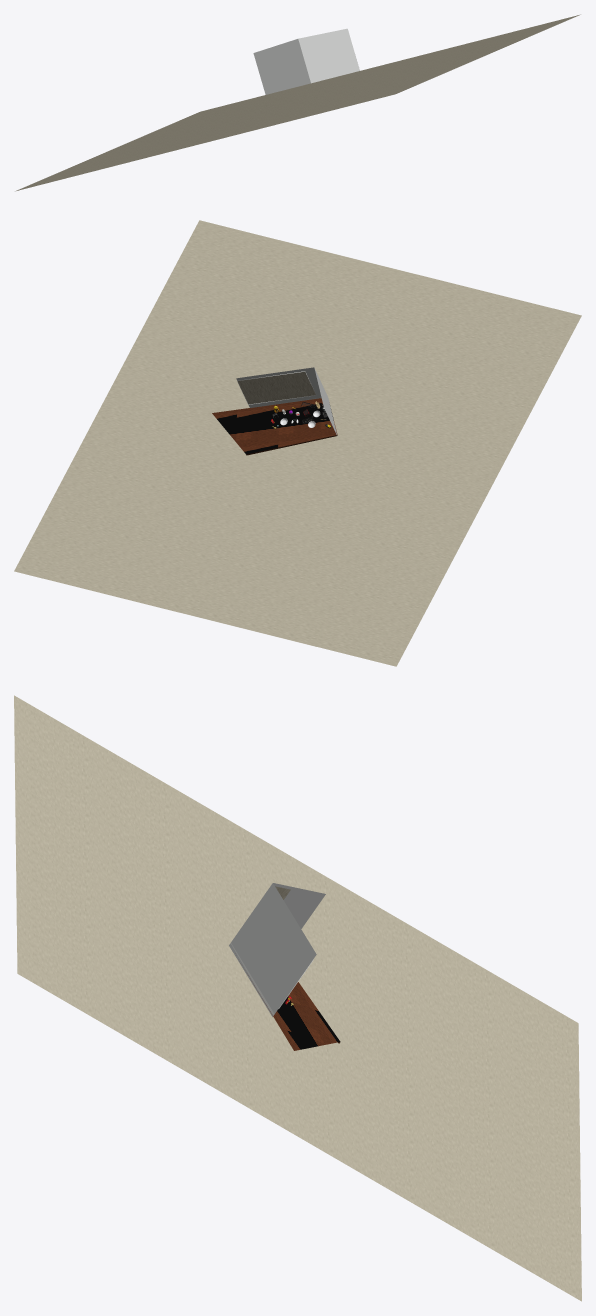
Rendered from viga.glb.
3 views of the same model, one above another, from view 1: azimuth 30°, elevation 25°; view 2: azimuth 150°, elevation 25°; view 3: azimuth 270°, elevation 25° (orthographic). The views are drawn at different scales.
Visible parts, largest first — view 1: pale surface below table, rear plaster, right plaster; view 2: pale surface below table, crisp wood tabletop, back inset grain, rear plaster; view 3: pale surface below table, rear plaster, crisp wood tabletop, right plaster.
Part boxes in pixels (x1=…): pale surface below table: x1=15, y1=14, x2=580, y2=191; rear plaster: x1=298, y1=28, x2=359, y2=83; right plaster: x1=253, y1=39, x2=310, y2=94; pale surface below table: x1=14, y1=220, x2=581, y2=666; crisp wood tabletop: x1=212, y1=398, x2=337, y2=454; back inset grain: x1=237, y1=371, x2=315, y2=404; rear plaster: x1=236, y1=367, x2=321, y2=407; pale surface below table: x1=14, y1=695, x2=581, y2=1301; rear plaster: x1=229, y1=883, x2=316, y2=1016; crisp wood tabletop: x1=248, y1=975, x2=340, y2=1050; right plaster: x1=273, y1=883, x2=325, y2=928.
Size of the model in its own units: 10 by 5.48 by 8.47.
26 materials, 9 textured.
